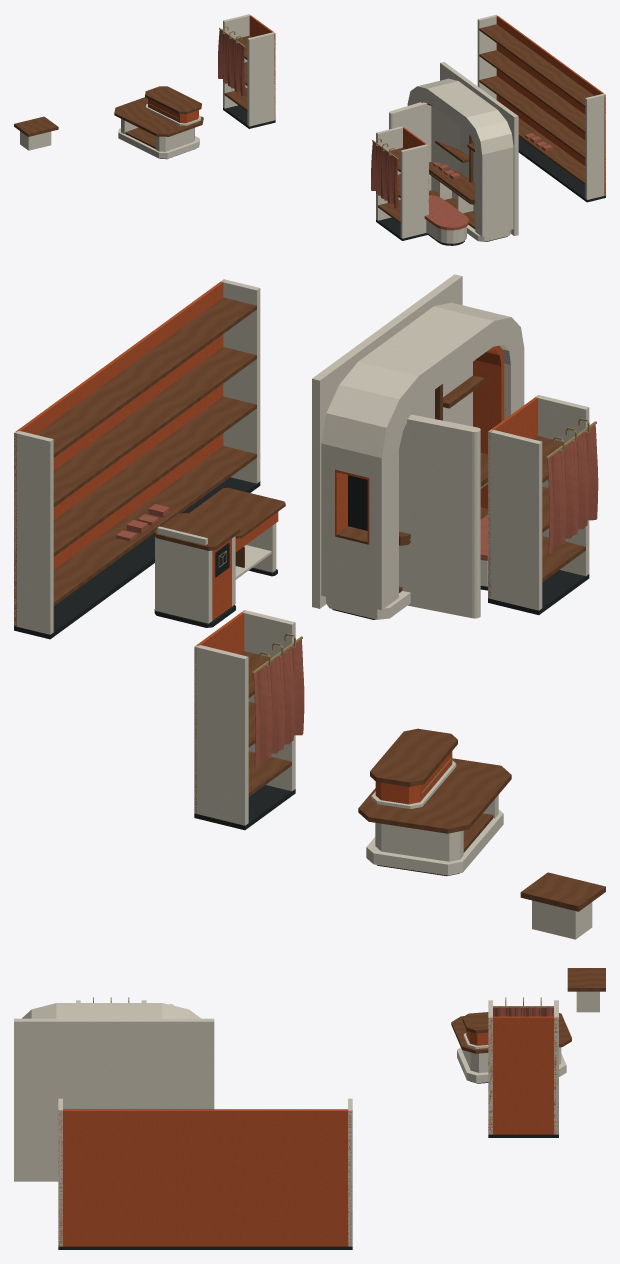
Rendered from SHOP_D09_P72_F106__fitout.glb.
The picture shows the model from 3 angles, top to bottom: view 1: azimuth 30°, elevation 25°; view 2: azimuth 150°, elevation 25°; view 3: azimuth 270°, elevation 25°; orthographic projection. The views are drawn at different scales.
Visible parts, largest first — view 1: SHOP_D09_P72_F106__fitout__ivory_enamel, SHOP_D09_P72_F106__fitout__warm_walnut, SHOP_D09_P72_F106__fitout__retail_terracotta_enamel, SHOP_D09_P72_F106__fitout__clay_weave, SHOP_D09_P72_F106__fitout__dark_rubber, SHOP_D09_P72_F106__fitout__champagne_metal; view 2: SHOP_D09_P72_F106__fitout__ivory_enamel, SHOP_D09_P72_F106__fitout__warm_walnut, SHOP_D09_P72_F106__fitout__retail_terracotta_enamel, SHOP_D09_P72_F106__fitout__clay_weave, SHOP_D09_P72_F106__fitout__dark_rubber, SHOP_D09_P72_F106__fitout__champagne_metal; view 3: SHOP_D09_P72_F106__fitout__retail_terracotta_enamel, SHOP_D09_P72_F106__fitout__ivory_enamel, SHOP_D09_P72_F106__fitout__warm_walnut, SHOP_D09_P72_F106__fitout__dark_rubber, SHOP_D09_P72_F106__fitout__clay_weave.
Boxes of the visible parts, left/top/right/bottom form: SHOP_D09_P72_F106__fitout__ivory_enamel: left=20, top=14, right=605, bottom=243; SHOP_D09_P72_F106__fitout__warm_walnut: left=14, top=24, right=594, bottom=229; SHOP_D09_P72_F106__fitout__retail_terracotta_enamel: left=148, top=15, right=605, bottom=202; SHOP_D09_P72_F106__fitout__clay_weave: left=218, top=30, right=552, bottom=230; SHOP_D09_P72_F106__fitout__dark_rubber: left=160, top=105, right=605, bottom=245; SHOP_D09_P72_F106__fitout__champagne_metal: left=149, top=26, right=469, bottom=201; SHOP_D09_P72_F106__fitout__ivory_enamel: left=14, top=274, right=592, bottom=939; SHOP_D09_P72_F106__fitout__warm_walnut: left=36, top=297, right=605, bottom=911; SHOP_D09_P72_F106__fitout__retail_terracotta_enamel: left=14, top=279, right=537, bottom=813; SHOP_D09_P72_F106__fitout__clay_weave: left=116, top=424, right=598, bottom=768; SHOP_D09_P72_F106__fitout__dark_rubber: left=14, top=475, right=589, bottom=876; SHOP_D09_P72_F106__fitout__champagne_metal: left=218, top=418, right=596, bottom=793; SHOP_D09_P72_F106__fitout__retail_terracotta_enamel: left=58, top=1016, right=558, bottom=1246; SHOP_D09_P72_F106__fitout__ivory_enamel: left=14, top=991, right=599, bottom=1246; SHOP_D09_P72_F106__fitout__warm_walnut: left=63, top=968, right=605, bottom=1109; SHOP_D09_P72_F106__fitout__dark_rubber: left=58, top=1081, right=558, bottom=1249; SHOP_D09_P72_F106__fitout__clay_weave: left=493, top=1007, right=553, bottom=1016.
Size of the model in its own units: 10.25 by 3 by 10.05.
Materials: 6 (6 with a texture image).
